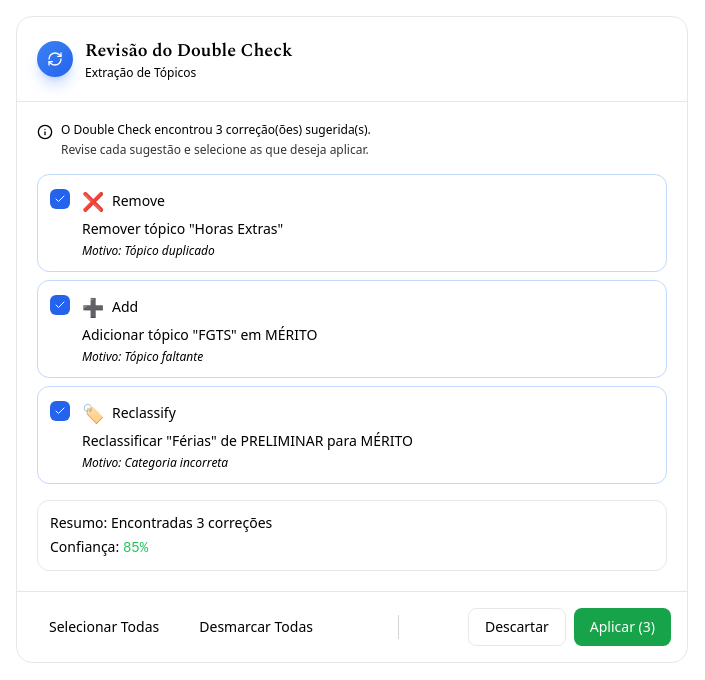
Test: DoubleCheckReviewModal › Seleção de correções › toggle de seleção funciona ao clicar em uma correção
The width and height of the screenshot is (705, 680).
Click the text "Remover tópico \"Horas Extras\"": (352, 222) [37,174,667,272]
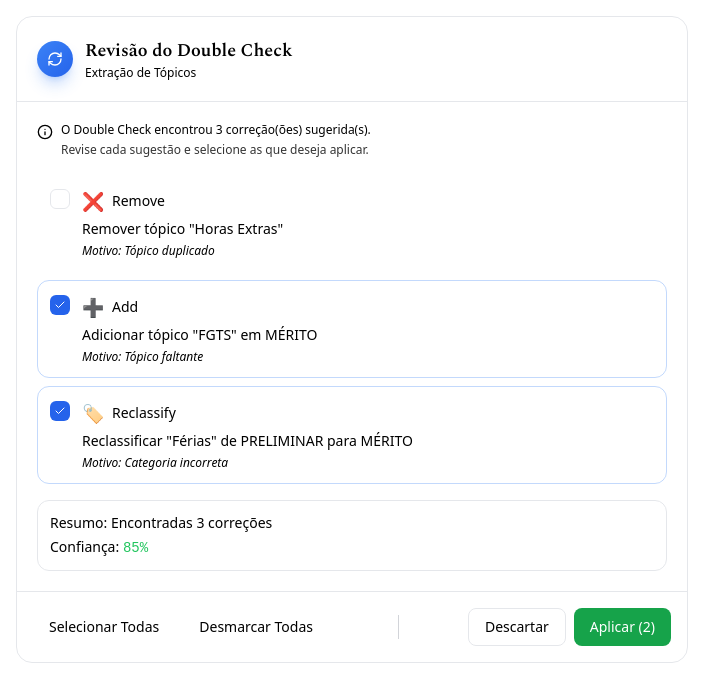
Now the button "Aplicar (2)" is shown, box [574,608,671,646]
